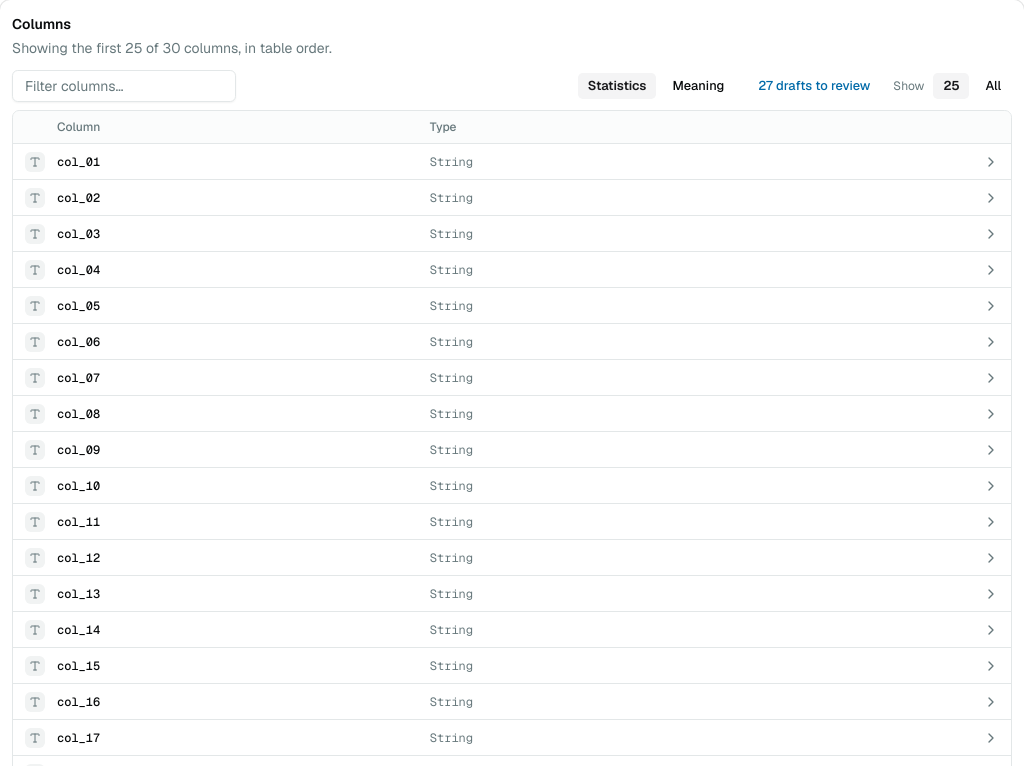
Test: Drafts only › pages the drafts, not the columns, and says how many drafts there are
This screenshot has width=1024, height=766.
Click the button "Meaning". click: point(698, 86)
box: [662,72,735,100]
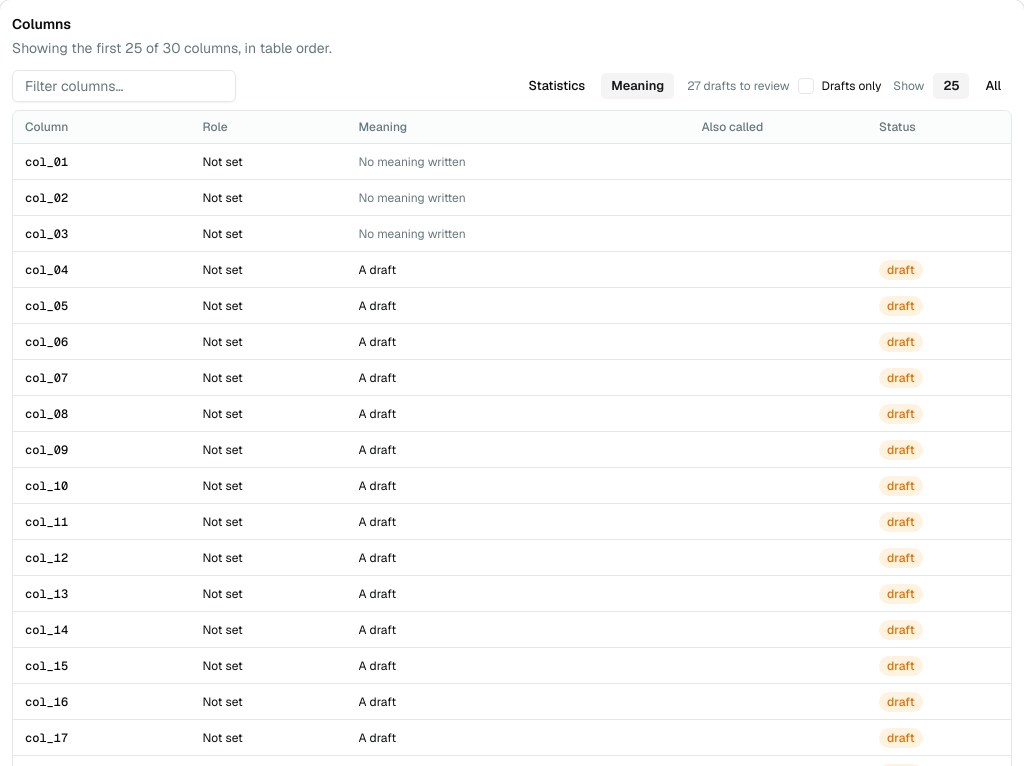
Click the checkbox named "Drafts only". click: point(806, 86)
box: [798,78,814,94]
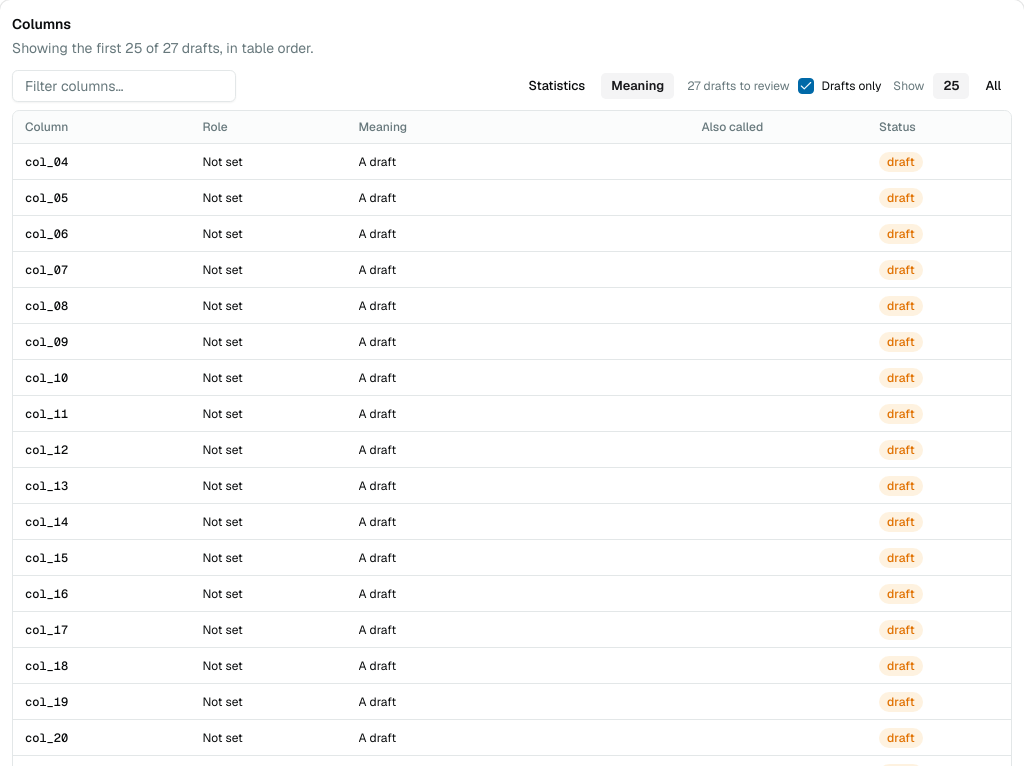
Expected: the text "Showing the first 25 of 27 drafts, in table order." is shown, [12,38,313,58]
